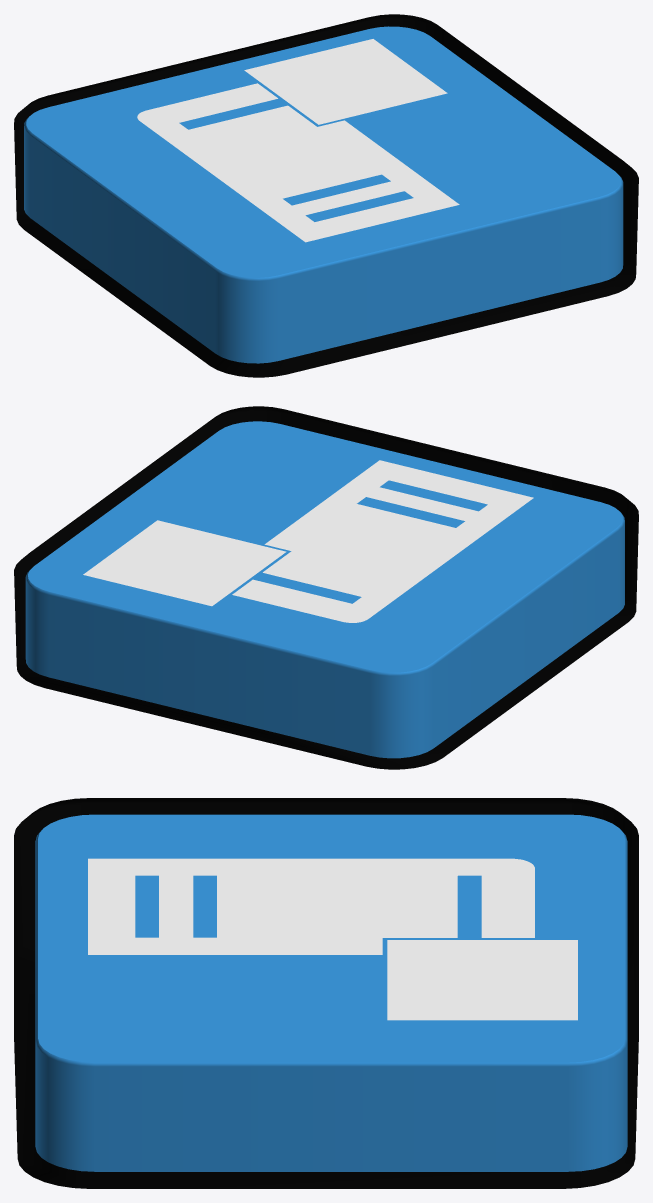
The model's file is LogicalServer.obj.
The picture shows the model from 3 angles, top to bottom: view 1: azimuth 30°, elevation 25°; view 2: azimuth 150°, elevation 25°; view 3: azimuth 270°, elevation 25°; orthographic projection. The views are drawn at different scales.
Visible parts, largest first — view 1: LogicalServer; view 2: LogicalServer; view 3: LogicalServer.
Boxes of the visible parts, x1=… form: LogicalServer: x1=14, y1=14, x2=638, y2=377; LogicalServer: x1=14, y1=406, x2=638, y2=769; LogicalServer: x1=14, y1=798, x2=638, y2=1188.
Bounding box in the file's own units: 1.06 × 0.2484 × 1.06.
